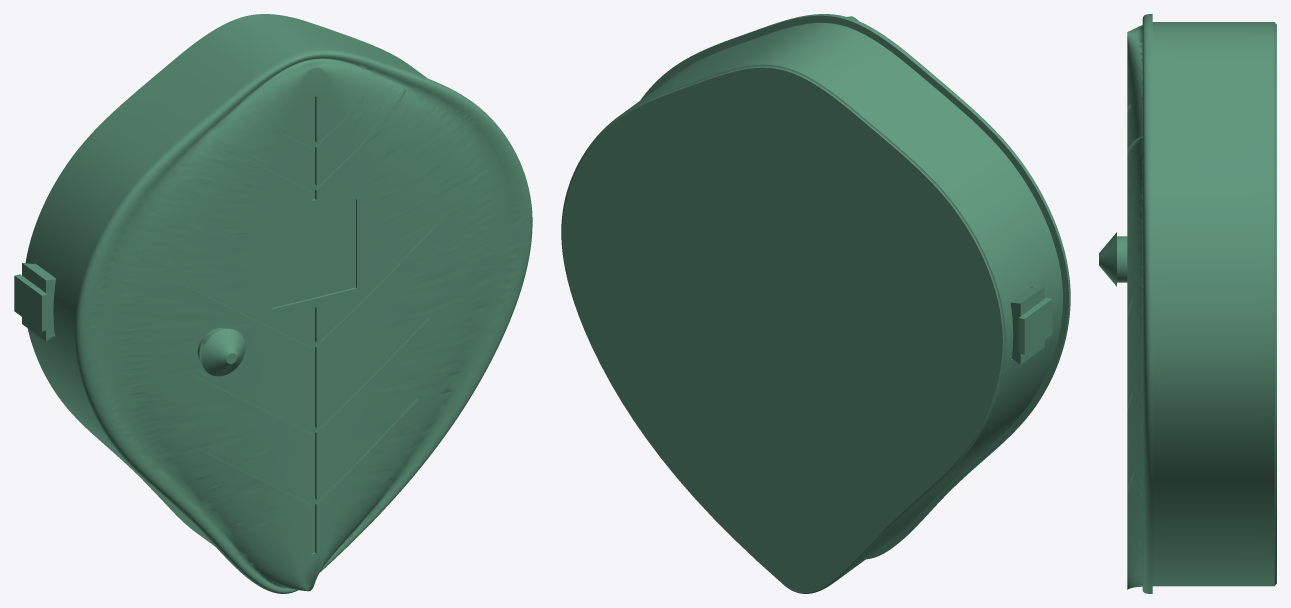
The model's file is case.glb.
3 renders of one model, left to right at view 1: azimuth 30°, elevation 25°; view 2: azimuth 150°, elevation 25°; view 3: azimuth 270°, elevation 25°, orthographic. The views are drawn at different scales.
Visible parts, largest first — view 1: lid, body, plug; view 2: body, lid, plug; view 3: body, lid.
Part boxes in pixels (x1=…): lid: x1=74, y1=48, x2=532, y2=593; body: x1=25, y1=14, x2=427, y2=546; plug: x1=14, y1=263, x2=55, y2=341; body: x1=561, y1=23, x2=1062, y2=593; lid: x1=640, y1=14, x2=1070, y2=559; plug: x1=1010, y1=286, x2=1052, y2=364; body: x1=1152, y1=22, x2=1276, y2=586; lid: x1=1099, y1=14, x2=1152, y2=593.
Size of the model in its own units: 136 by 150 by 42.2.
